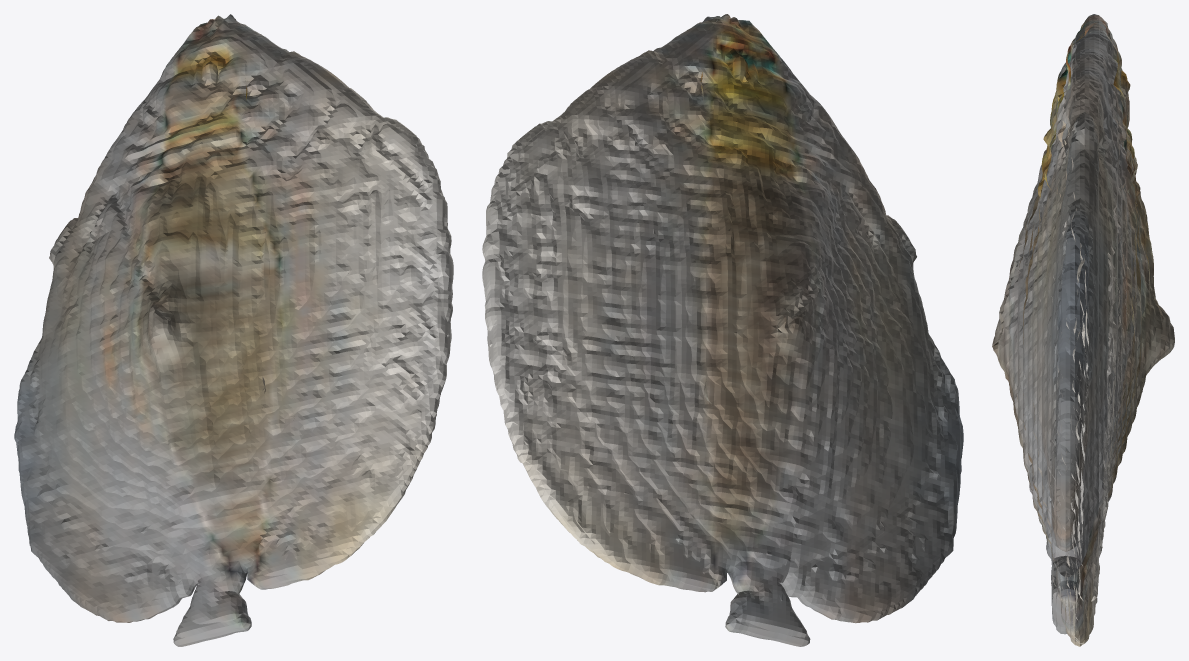
File: fish-discus-full.glb
The picture shows the model from 3 angles, left to right: view 1: azimuth 30°, elevation 25°; view 2: azimuth 150°, elevation 25°; view 3: azimuth 270°, elevation 25°; orthographic projection. The views are drawn at different scales.
Visible parts, largest first — view 1: world; view 2: world; view 3: world.
Boxes of the visible parts, x1=… form: world: x1=14, y1=14, x2=453, y2=646; world: x1=482, y1=14, x2=963, y2=646; world: x1=992, y1=14, x2=1174, y2=646.
Size of the model in its own units: 0.7433 by 0.9619 by 0.2623.
